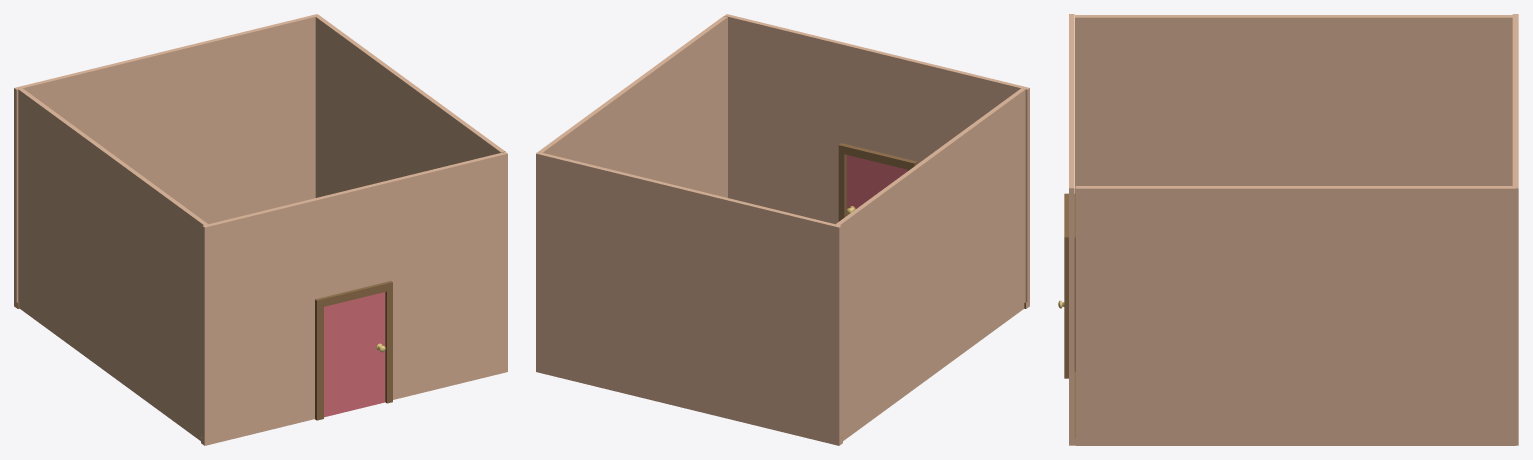
File: VictimRoom.fbx
3 renders of one model, left to right at view 1: azimuth 30°, elevation 25°; view 2: azimuth 150°, elevation 25°; view 3: azimuth 270°, elevation 25°, orthographic. The views are drawn at different scales.
Visible parts, largest first — view 1: Wall.002, Wall.001, Wall.003, Wall, Door, DoorFrame; view 2: Wall.003, Wall.001, Wall.002, Wall, Door, DoorFrame; view 3: Wall, Wall.001, Wall.002, Wall.003, DoorFrame.
Part boxes in pixels (x1,y1,x2,y2): Wall.002: (201, 152, 507, 445); Wall.001: (18, 88, 207, 440); Wall.003: (14, 14, 319, 308); Wall: (315, 15, 505, 197); Door: (324, 292, 385, 417); DoorFrame: (315, 281, 392, 420); Wall.003: (536, 152, 842, 445); Wall.001: (835, 88, 1025, 440); Wall.002: (724, 14, 1029, 308); Wall: (537, 16, 727, 197); Door: (846, 155, 907, 215); DoorFrame: (838, 143, 917, 221); Wall: (1075, 186, 1515, 445); Wall.001: (1075, 15, 1512, 193); Wall.002: (1069, 14, 1075, 445); Wall.003: (1512, 14, 1518, 445); DoorFrame: (1064, 193, 1075, 378).
Size of the model in its own units: 1686 by 1160 by 1878.
